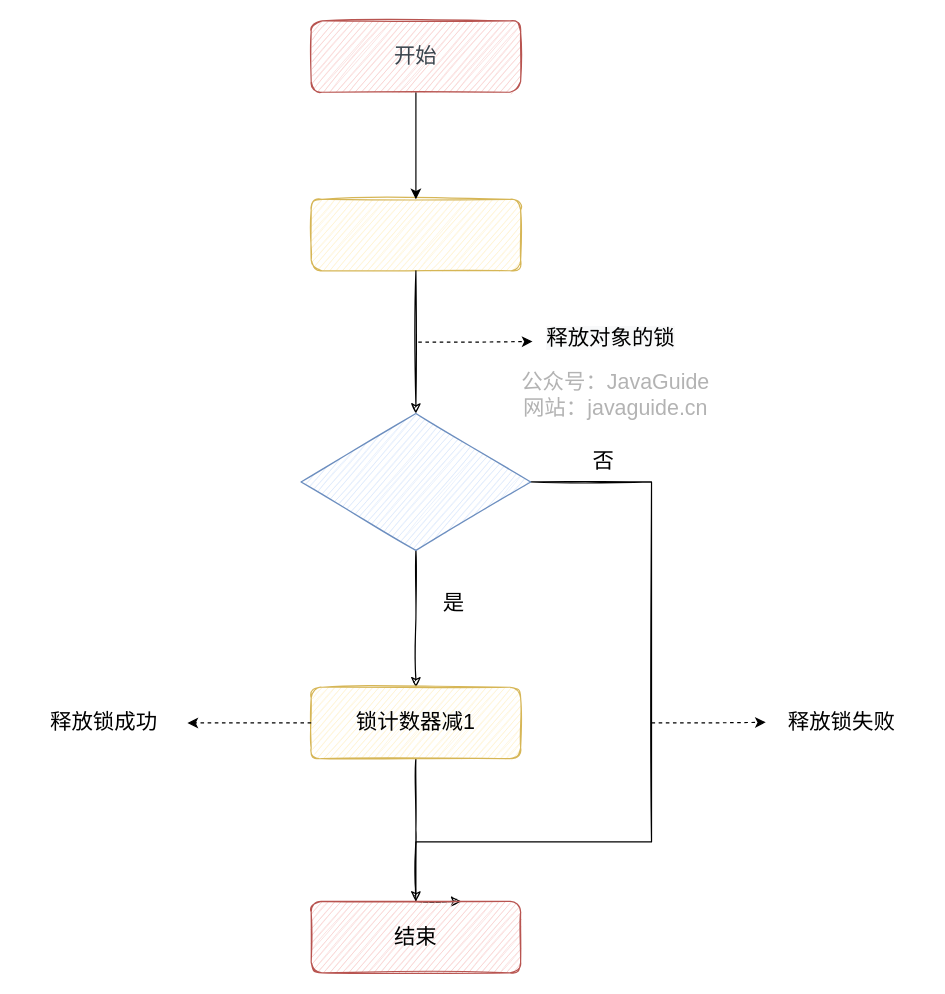
Some shapes in this 945 by 994 pixel diagram are drawn without their labels. Here are the shapes that lost their labels. From the top down, the box of each, then its label:
(310, 198, 521, 271): 执行 monitorexit
(300, 412, 531, 550): 是否为锁的拥有者
